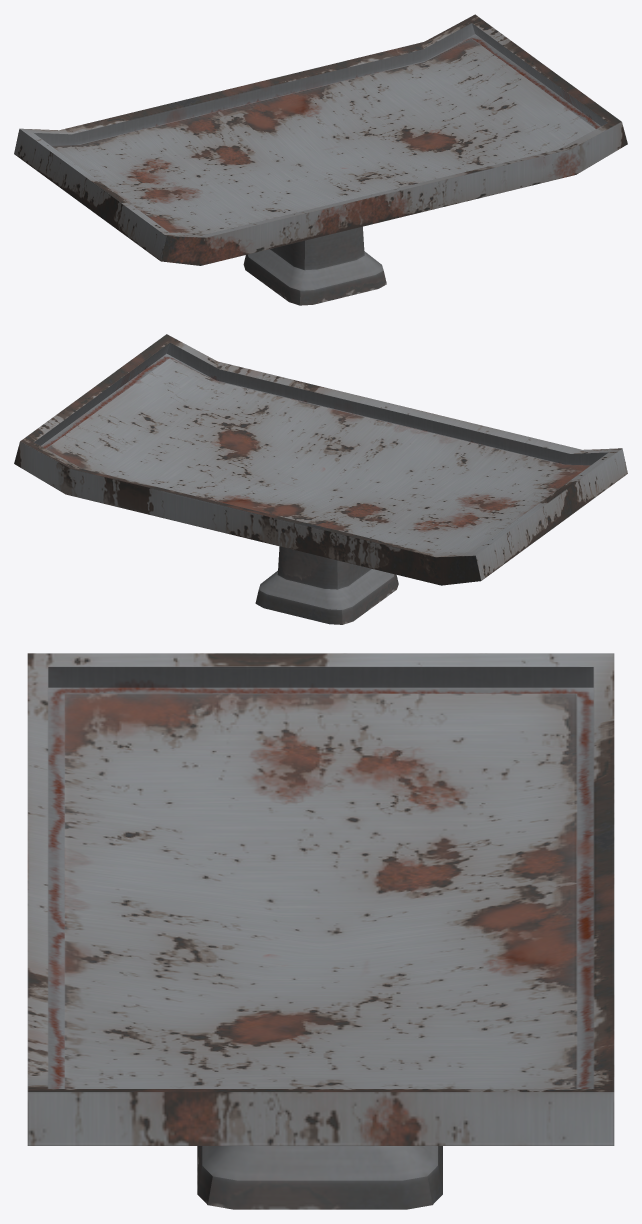
Rendered from autopsy_table.glb.
3 views of the same model, one above another, from view 1: azimuth 30°, elevation 25°; view 2: azimuth 150°, elevation 25°; view 3: azimuth 270°, elevation 25° (orthographic). The views are drawn at different scales.
Visible parts, largest first — view 1: Object_2; view 2: Object_2; view 3: Object_2.
Part boxes in pixels (x1,y1,x2,y2): Object_2: [14, 14, 627, 305]; Object_2: [14, 334, 627, 624]; Object_2: [27, 653, 614, 1209].
Bounding box in the file's own units: 50.91 × 15.53 × 27.69.
Materials: 1 (1 with a texture image).
